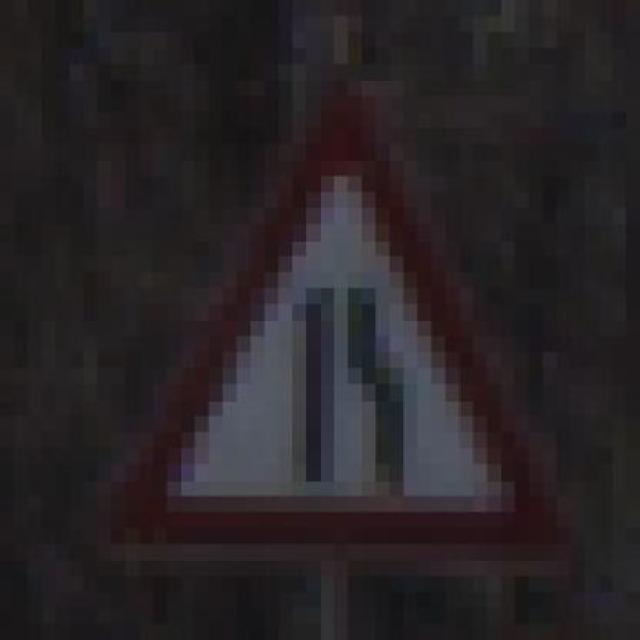-Road narrows on right: (97, 64, 598, 576)
